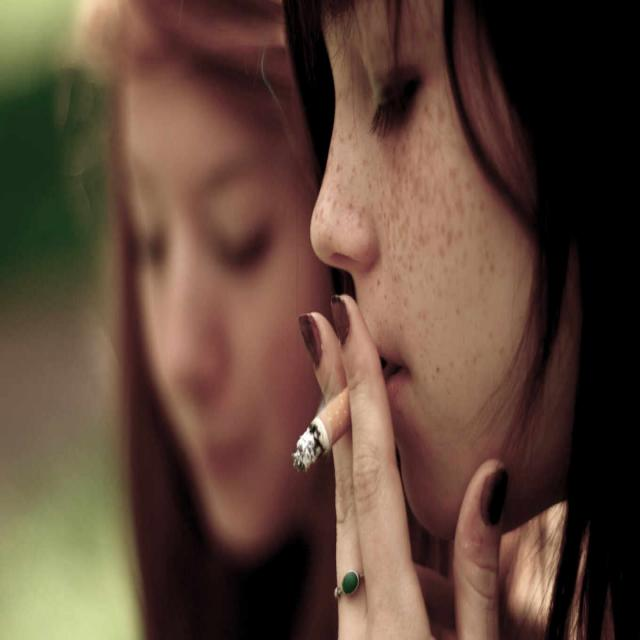cigarette: (287, 376, 358, 478)
